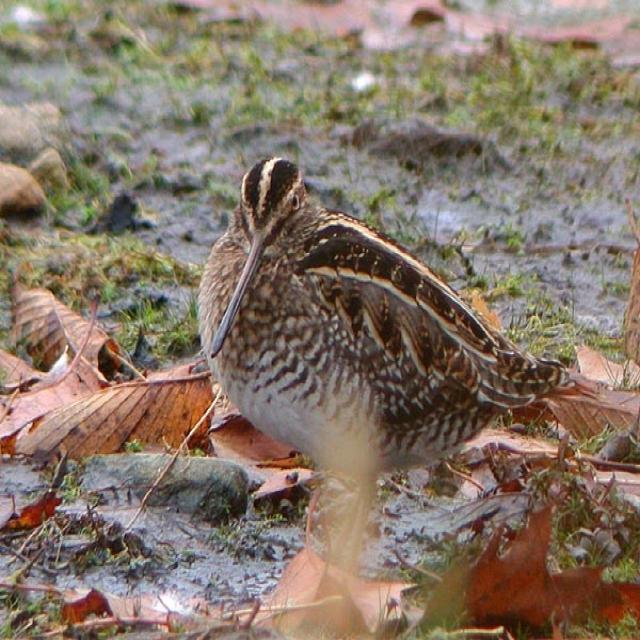bird: (192, 147, 576, 568)
